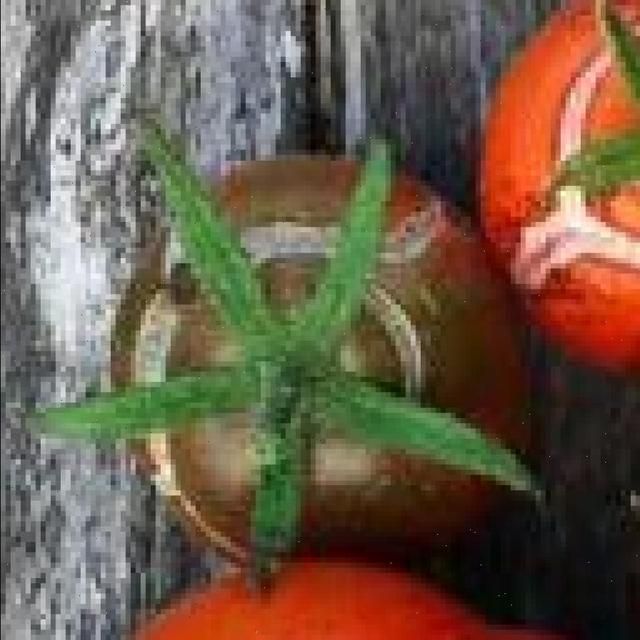Cracking Fruit: (87, 105, 383, 236)
